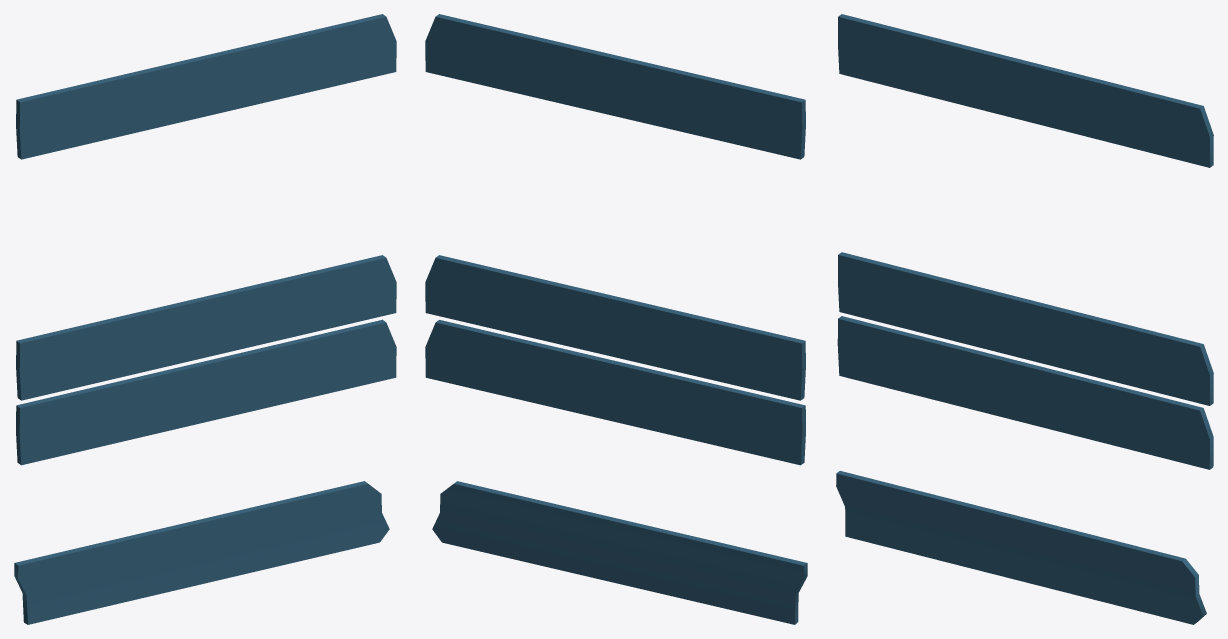
Rendered from Boards_Blocker_05.fbx.
3 renders of one model, left to right at view 1: azimuth 30°, elevation 25°; view 2: azimuth 150°, elevation 25°; view 3: azimuth 330°, elevation 25°, orthographic.
Visible parts, largest first — view 1: Boards_Blocker_05; view 2: Boards_Blocker_05; view 3: Boards_Blocker_05.
Part boxes in pixels (x1,y1,x2,y2): Boards_Blocker_05: (14, 14, 396, 624); Boards_Blocker_05: (425, 14, 807, 624); Boards_Blocker_05: (836, 14, 1213, 624).
Size of the model in its own units: 161 by 215 by 3.18.
